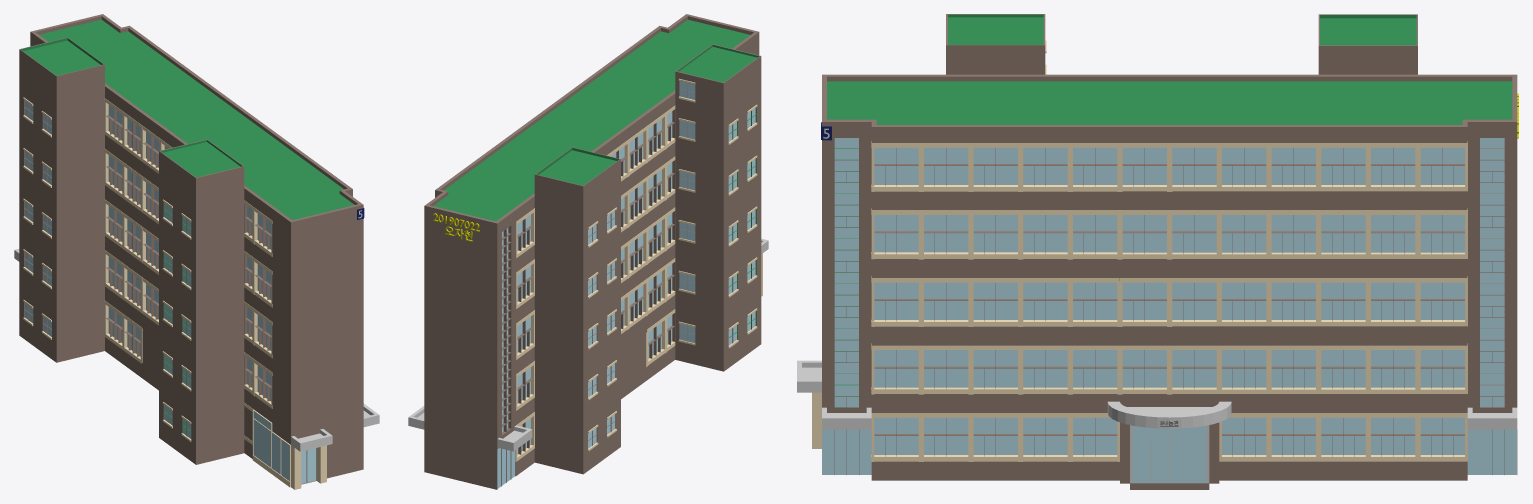
Rendered from 5building_5.glb.
The picture shows the model from 3 angles, left to right: view 1: azimuth 30°, elevation 25°; view 2: azimuth 150°, elevation 25°; view 3: azimuth 270°, elevation 25°; orthographic projection. The views are drawn at different scales.
Parts seen in each view (by area): view 1: main, Cube.007, Cube.018, sidebar-1, Cube.056, 후면창문, Cube.071, Cube.059, Cube.048, Plane.004, sidebar-2, Cube.051 (+5 smaller); view 2: main, Cube.018, Cube.007, sidebar-2, Cube.056, 후면창문, Cube.071, Cube.049, Cube.059, sidebar-1, Cube.048, Cube.040 (+5 smaller); view 3: main, 전면창문, Cube.068, Cube.071, sidebar-2, sidebar-1, Cube.007, Cube.018, Cube.065, Cube.027, Cylinder, Cube.029 (+8 smaller).
Part boxes in pixels (bbox=[...]): main: bbox=[75, 31, 352, 458]; Cube.007: bbox=[159, 139, 244, 464]; Cube.018: bbox=[19, 37, 104, 362]; sidebar-1: bbox=[272, 195, 363, 484]; Cube.056: bbox=[104, 98, 272, 444]; 후면창문: bbox=[108, 105, 271, 401]; Cube.071: bbox=[30, 14, 363, 225]; Cube.059: bbox=[24, 100, 51, 336]; Cube.048: bbox=[164, 203, 191, 438]; Plane.004: bbox=[252, 409, 272, 473]; sidebar-2: bbox=[30, 19, 117, 46]; Cube.051: bbox=[271, 431, 290, 487]; main: bbox=[435, 31, 740, 475]; Cube.018: bbox=[534, 147, 620, 474]; Cube.007: bbox=[675, 44, 761, 371]; sidebar-2: bbox=[424, 196, 515, 489]; Cube.056: bbox=[515, 105, 675, 461]; 후면창문: bbox=[517, 111, 672, 454]; Cube.071: bbox=[424, 14, 759, 226]; Cube.049: bbox=[679, 81, 695, 342]; Cube.059: bbox=[588, 211, 615, 448]; sidebar-1: bbox=[671, 19, 759, 55]; Cube.048: bbox=[728, 108, 755, 345]; Cube.040: bbox=[728, 104, 757, 348]; main: bbox=[871, 81, 1467, 480]; 전면창문: bbox=[874, 147, 1464, 454]; Cube.068: bbox=[871, 141, 1467, 461]; Cube.071: bbox=[822, 74, 1517, 131]; sidebar-2: bbox=[1467, 81, 1517, 474]; sidebar-1: bbox=[822, 81, 871, 474]; Cube.007: bbox=[946, 14, 1045, 74]; Cube.018: bbox=[1318, 14, 1417, 74]; Cube.065: bbox=[1480, 138, 1504, 362]; Cube.027: bbox=[834, 138, 858, 362]; Cylinder: bbox=[1107, 401, 1231, 428]; Cube.029: bbox=[822, 429, 871, 474].
Size of the model in its own units: 95.6 by 170 by 291.
